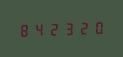eight: (17, 21, 30, 38)
four: (31, 21, 44, 37)
three: (60, 20, 73, 36)
two: (46, 20, 59, 37), (74, 19, 87, 36)
zero: (88, 19, 101, 35)
